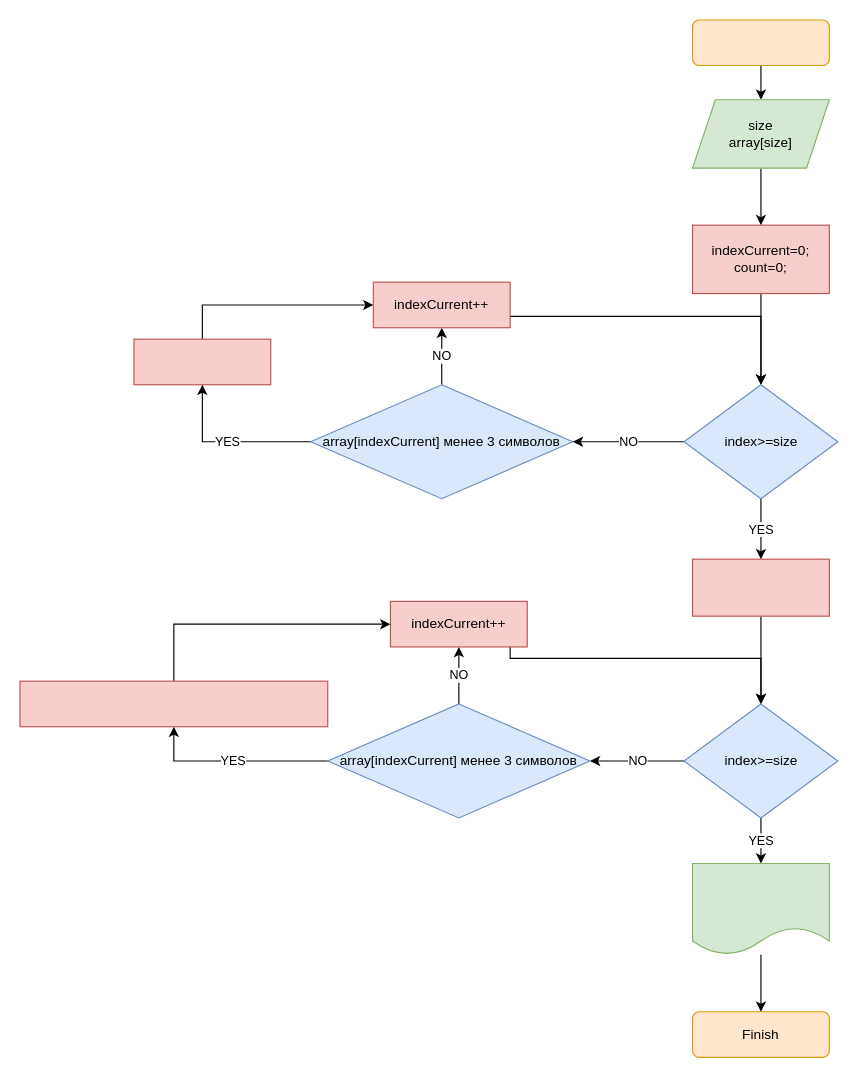
Some shapes in this 858 by 1077 pixel diagram are drawn without their labels. The shapes that lost their labels are listed below. From the top down, each one's box as (x1, y1, x2, y2) in pixels, then its label:
(691, 19, 829, 66): Start
(133, 338, 271, 385): count++
(691, 558, 829, 616): NewArray[count] indexCurrent=0; indexNew=0
(19, 680, 328, 727): arrayNew[indexNew]=array[indexCurrent] indexNew++
(691, 862, 829, 955): newArray
